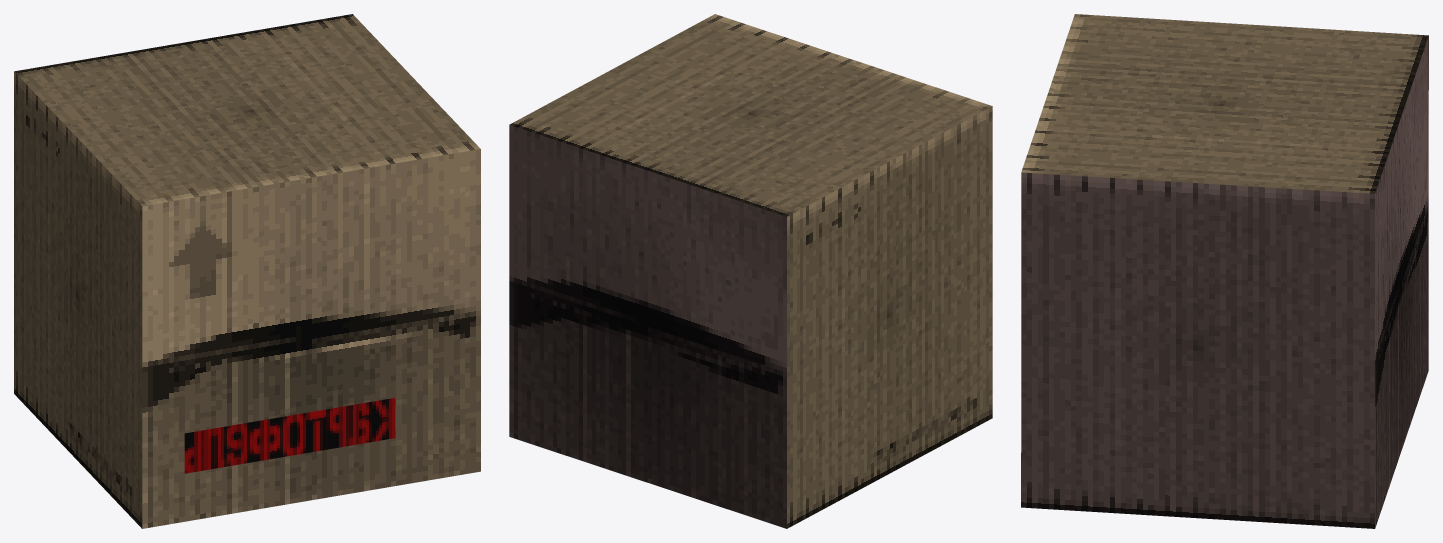
File: primary_081.glb
The picture shows the model from 3 angles, left to right: view 1: azimuth 30°, elevation 25°; view 2: azimuth 150°, elevation 25°; view 3: azimuth 270°, elevation 25°; orthographic projection. The views are drawn at different scales.
Parts seen in each view (by area): view 1: Object; view 2: Object; view 3: Object.
Part boxes in pixels (x1,y1,x2,y2): Object: [14, 14, 480, 528]; Object: [509, 14, 992, 528]; Object: [1021, 14, 1428, 528].
Bounding box in the file's own units: 1.26 × 1.09 × 1.21.
7 materials, 7 textured.
